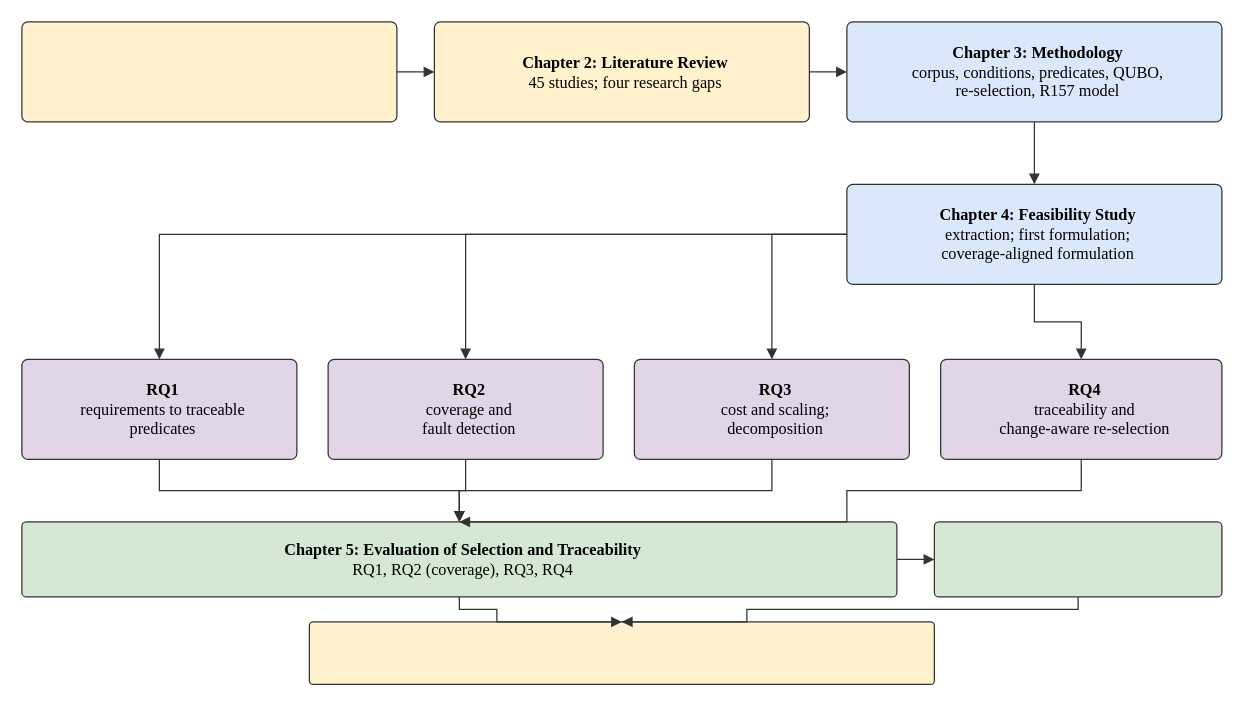
Some shapes in this 1244 by 706 pixel diagram are drawn without their labels. The centre of each missing label's shape, as x and y in pixels:
Chapter 1: Introduction problem, aim, objectives, RQ1-RQ4: point 209,71
Chapter 6: Fault Detection RQ2 (fault detection): point 1077,559
Chapter 7: Discussion and Conclusion: point 621,652
